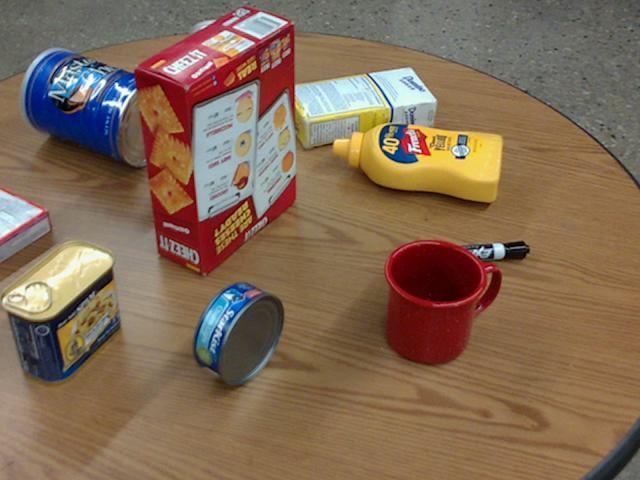cracker_box: (133, 9, 294, 275)
gelatin_box: (0, 187, 53, 263)
large_marker: (414, 240, 529, 265)
master_chef_can: (19, 49, 172, 166)
mug: (385, 238, 499, 363)
mustard_bottle: (332, 124, 502, 200)
potted_meat_can: (1, 240, 119, 385)
sugar_box: (282, 65, 438, 147)
tomato_soup_can: (187, 19, 243, 116)
tuna_fish_can: (193, 282, 285, 385)
